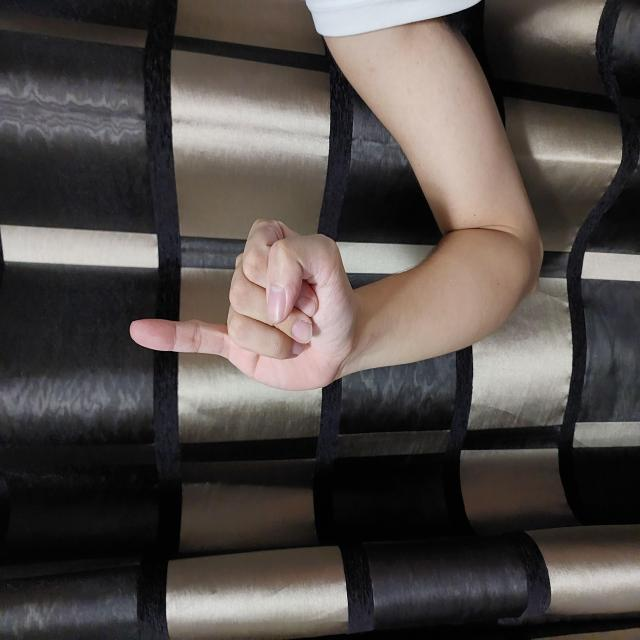I: (245, 128, 423, 359)
